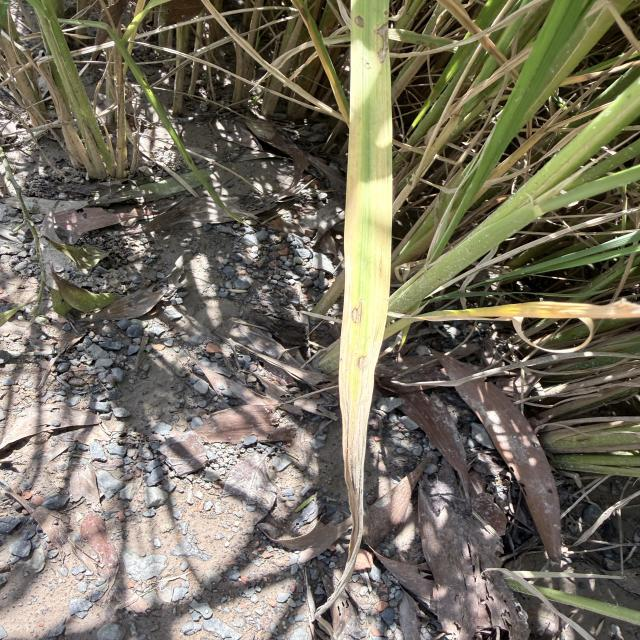Chay bia la: (317, 219, 382, 613)
